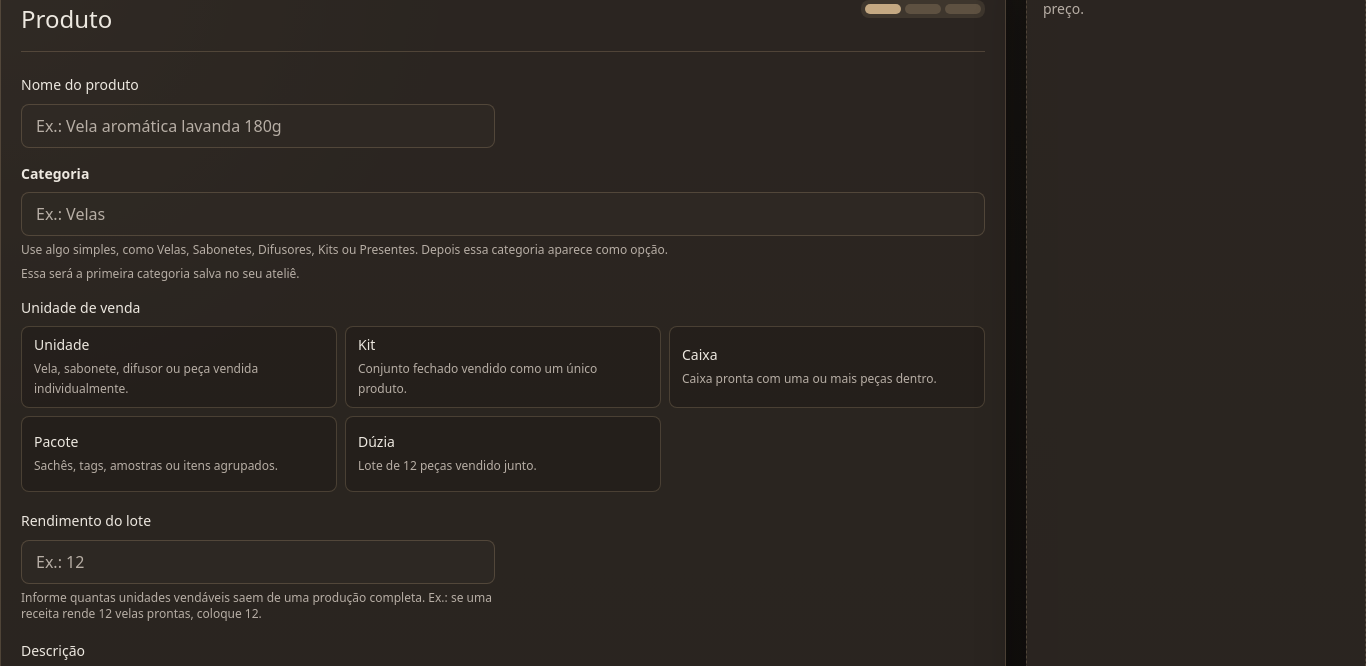
Test: ProductForm › removes text from numeric fields and formats money as cents while typing
Later steps or results of the test are not shown.
In the field labelled "Nome do produto": [258, 126] box [21,104,495,148], type "Vela teste"
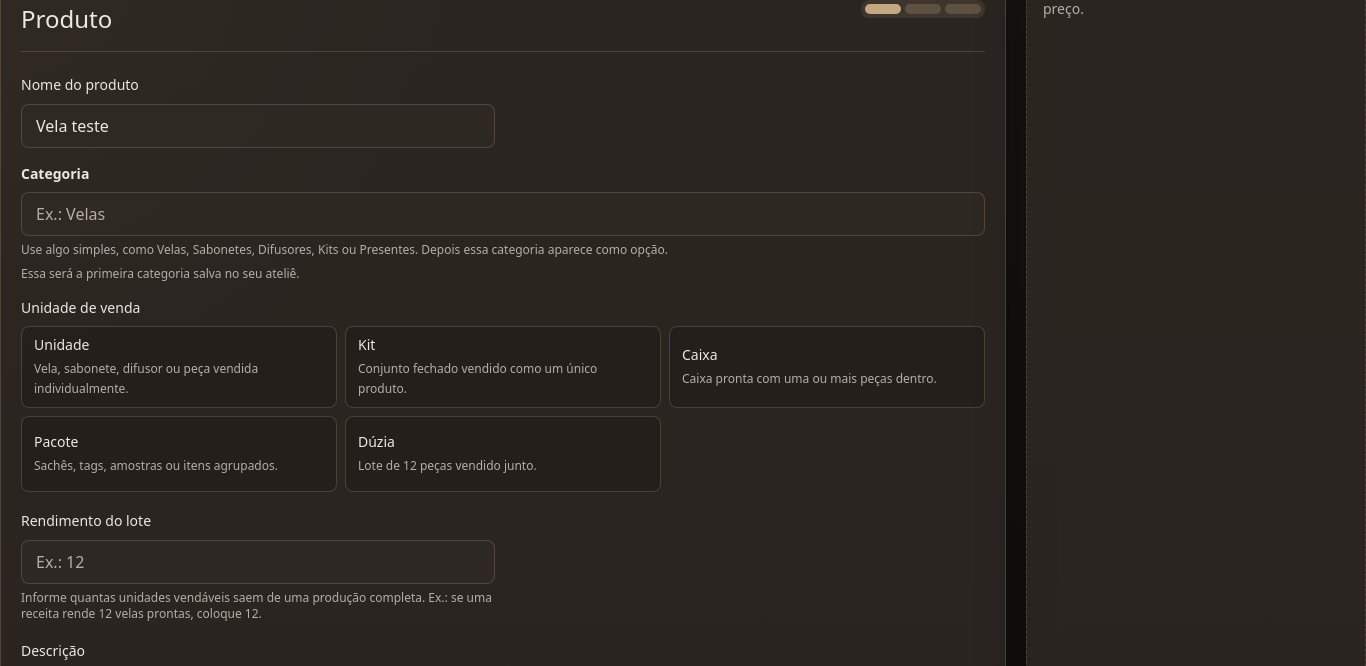
Click the radio button labelled "Unidade": [179, 367] box [21,326,337,408]
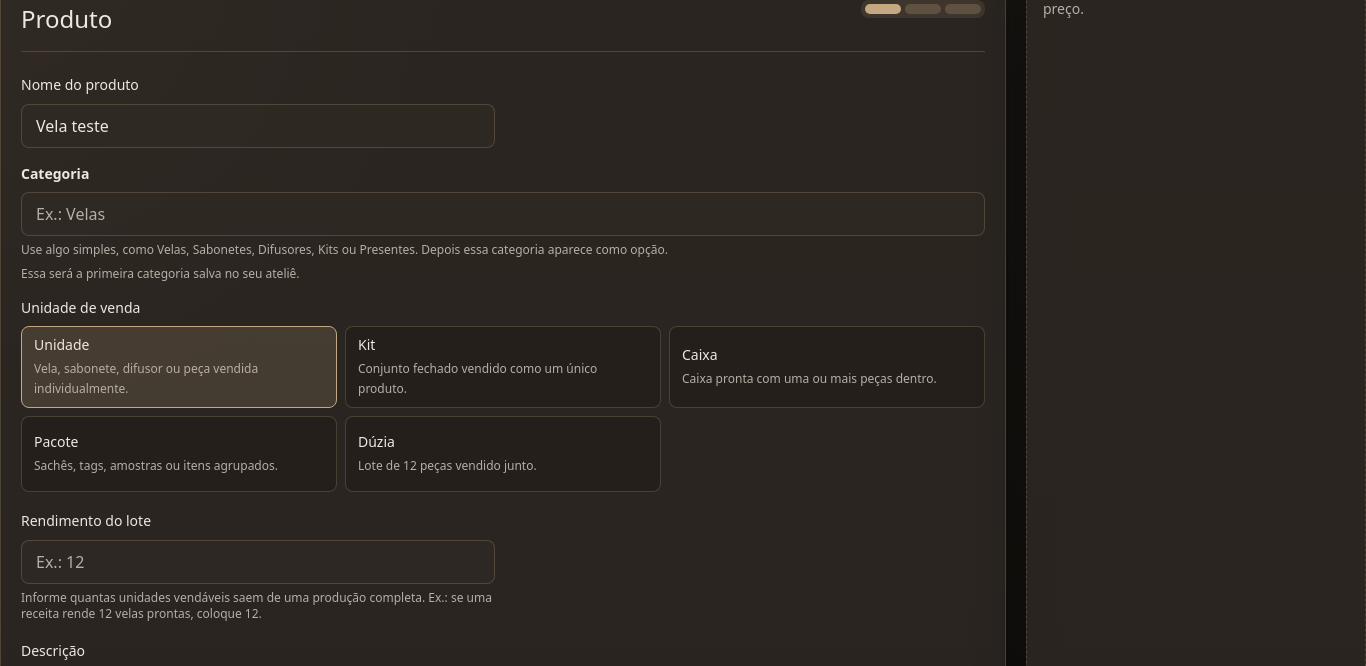
In the field with placeholder "Ex.: 12": [258, 562] box [21,540,495,584], type "12 unidades"
(page scrolled)
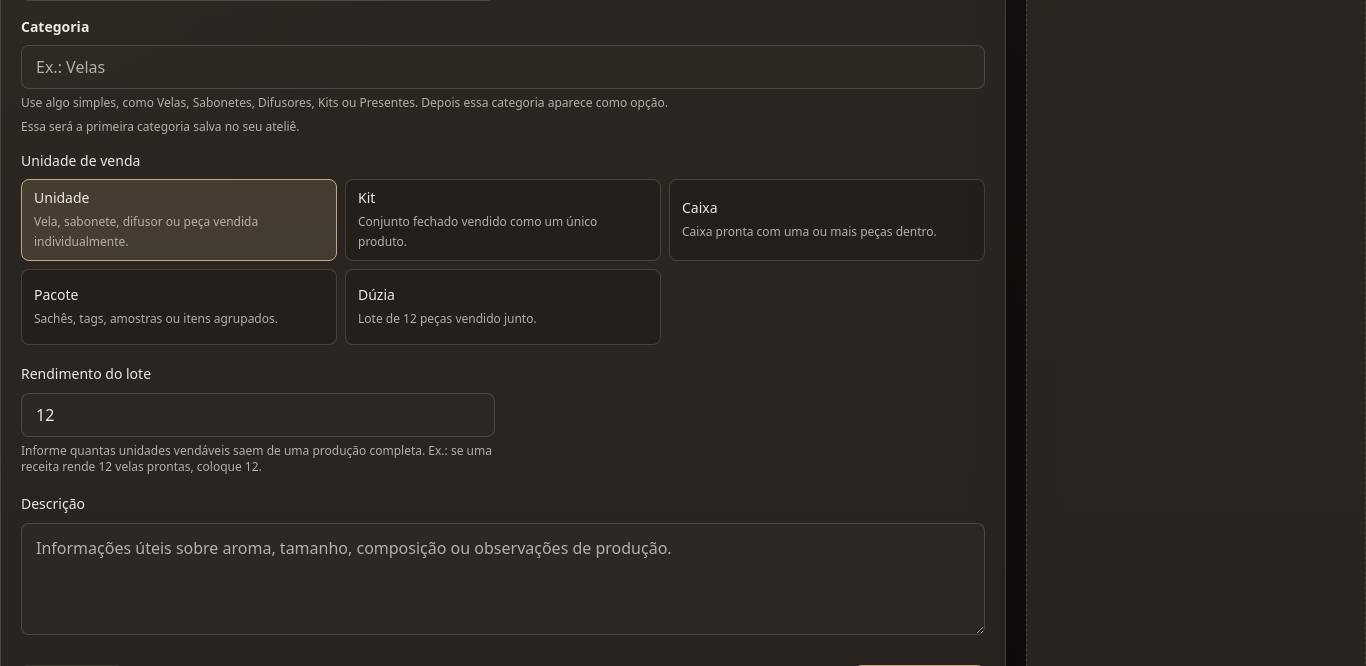
expect the field with placeholder "Ex.: 12" holds "12": met, box [21,393,495,437]
